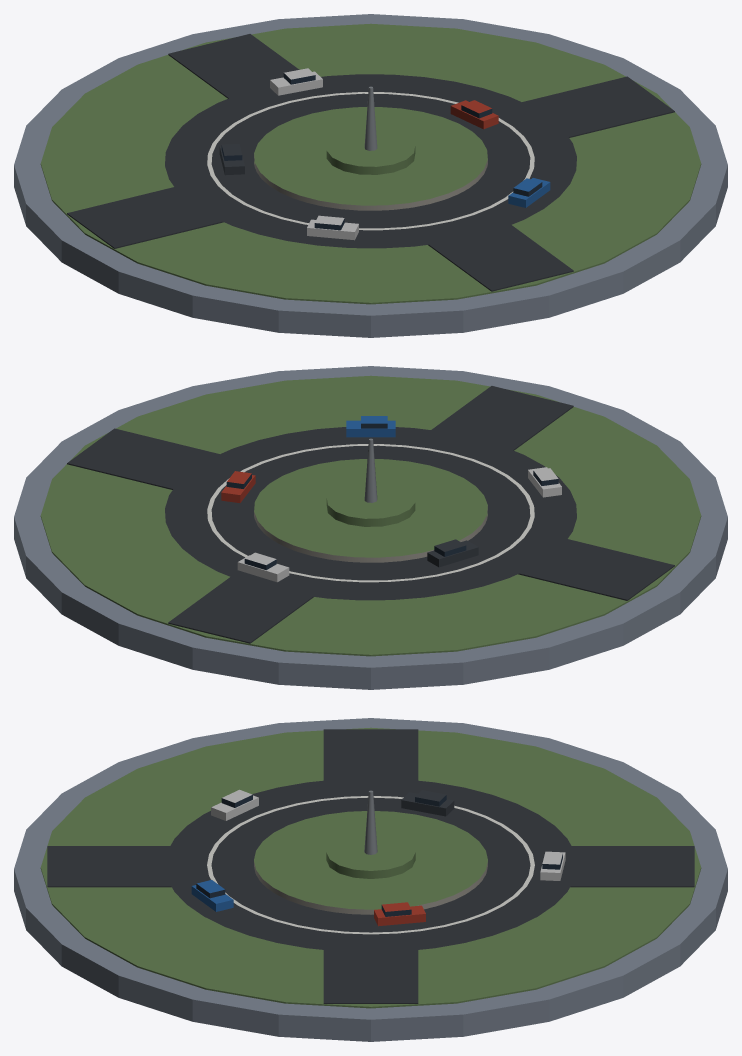
The model's file is roundabout.glb.
The picture shows the model from 3 angles, top to bottom: view 1: azimuth 30°, elevation 25°; view 2: azimuth 150°, elevation 25°; view 3: azimuth 270°, elevation 25°; orthographic projection.
Visible parts, largest first — view 1: roundabout; view 2: roundabout; view 3: roundabout.
Boxes of the visible parts, x1=… form: roundabout: x1=14, y1=14, x2=727, y2=337; roundabout: x1=14, y1=366, x2=727, y2=689; roundabout: x1=14, y1=718, x2=727, y2=1041.
Size of the model in its own units: 64 by 9.85 by 64.
